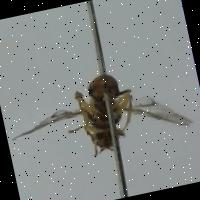Oriental-fruit-fly: (0, 53, 200, 182)
